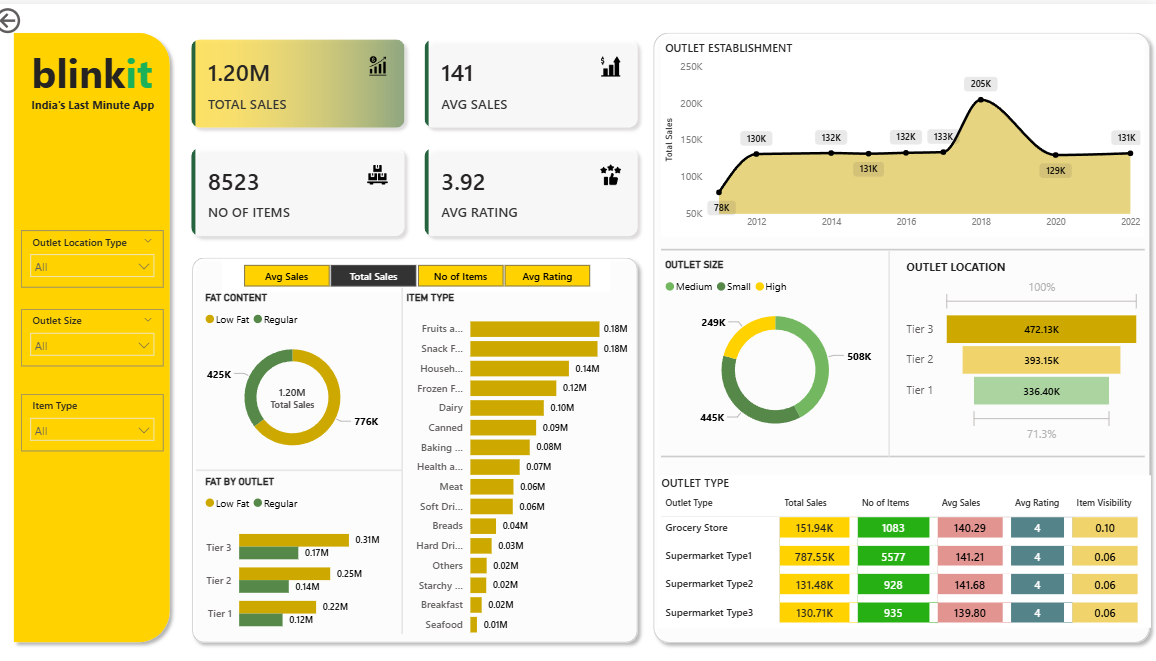

The page's visual inventory and layout, read from the dashboard file:
{"tool":"powerbi","page":{"name":"Page 1","canvas":[1400,800],"ordinal":0},"visuals":[{"type":"shape","box":[18.6,25.7,205.7,750],"z":0},{"type":"textbox","box":[42.9,42.9,164.3,80],"z":1000},{"type":"textbox","box":[42.9,107.1,175.7,30],"z":2000},{"type":"cardVisual","fields":{"Data":["BlinkIT Grocery Data.Total Sales","BlinkIT Grocery Data.Avg Sales","BlinkIT Grocery Data.No of Items","BlinkIT Grocery Data.Avg Rating"]},"box":[224.3,25.7,570,270],"z":3000},{"type":"shape","box":[232.9,295.7,552.9,480],"z":4000},{"type":"donutChart","title":"FAT CONTENT","fields":{"Y":["BlinkIT Grocery Data.Total Sales"],"Category":["BlinkIT Grocery Data.Item Fat Content"]},"box":[252.9,345.7,220,212.9],"z":5000},{"type":"slicer","fields":{"Values":["Metrics.Metrics"]},"box":[277.1,305.7,465.7,40],"z":6000},{"type":"cardVisual","fields":{"Data":["BlinkIT Grocery Data.Total Sales"]},"box":[310.7,441.3,102.1,61.5],"z":7000},{"type":"clusteredBarChart","title":"FAT BY OUTLET","fields":{"Y":["BlinkIT Grocery Data.Total Sales"],"Category":["BlinkIT Grocery Data.Outlet Location Type"],"Series":["BlinkIT Grocery Data.Item Fat Content"]},"box":[252.9,565.7,220,204.3],"z":8000},{"type":"shape","box":[246.1,543.3,247.6,33],"z":9000},{"type":"shape","box":[477.1,341.4,32.9,415.7],"z":10000},{"type":"clusteredBarChart","title":"ITEM TYPE","fields":{"Y":["BlinkIT Grocery Data.Total Sales"],"Category":["BlinkIT Grocery Data.Item Type"]},"box":[494.3,345.7,275.7,424.3],"z":11000},{"type":"shape","box":[786.5,25.5,613.9,750.4],"z":12000},{"type":"lineChart","title":"OUTLET ESTABLISHMENT","fields":{"Category":["BlinkIT Grocery Data.Outlet Establishment Year"],"Y":["BlinkIT Grocery Data.Total Sales"]},"box":[804.5,43.5,580.8,235.6],"z":13000},{"type":"shape","box":[804.5,283.7,580.8,22.5],"z":14000},{"type":"donutChart","title":"OUTLET SIZE","fields":{"Y":["BlinkIT Grocery Data.Total Sales"],"Category":["BlinkIT Grocery Data.Outlet Size"]},"box":[804.5,306.2,274.7,225.1],"z":15000},{"type":"funnel","title":"OUTLET LOCATION","fields":{"Category":["BlinkIT Grocery Data.Outlet Location Type"],"Y":["BlinkIT Grocery Data.Total Sales"]},"box":[1094.1,306.2,291.2,225.1],"z":16000},{"type":"pivotTable","title":"OUTLET TYPE","fields":{"Rows":["BlinkIT Grocery Data.Outlet Type"],"Values":["BlinkIT Grocery Data.Total Sales","BlinkIT Grocery Data.No of Items","BlinkIT Grocery Data.Avg Sales","BlinkIT Grocery Data.Avg Rating","Avg(BlinkIT Grocery Data.Item Visibility)"]},"box":[800,565.8,592.8,183.1],"z":17000},{"type":"actionButton","box":[0,0,100,40],"z":18000},{"type":"slicer","fields":{"Values":["BlinkIT Grocery Data.Outlet Location Type"]},"box":[36,271.7,171.1,69],"z":19000},{"type":"slicer","fields":{"Values":["BlinkIT Grocery Data.Outlet Size"]},"box":[36,366.2,171.1,69],"z":20000},{"type":"slicer","fields":{"Values":["BlinkIT Grocery Data.Item Type"]},"box":[36,468.3,171.1,69],"z":21000},{"type":"shape","box":[804.5,525.3,580.8,36],"z":22000},{"type":"shape","box":[1062.6,295.7,31.5,247.6],"z":23000}]}

Visuals, with their boxes in screenshot pixels (x1, y1, x2, y2), scaled from the page's 1400x800 canvas onto the 1156x661 screenshot:
shape: BBox(15, 21, 185, 641)
textbox: BBox(35, 35, 171, 102)
textbox: BBox(35, 88, 181, 113)
cardVisual - BlinkIT Grocery Data.Total Sales x BlinkIT Grocery Data.Avg Sales: BBox(185, 21, 656, 244)
shape: BBox(192, 244, 649, 641)
"FAT CONTENT" donutChart: BBox(209, 286, 390, 462)
slicer - Metrics.Metrics: BBox(229, 253, 613, 286)
cardVisual - BlinkIT Grocery Data.Total Sales: BBox(257, 365, 341, 415)
"FAT BY OUTLET" clusteredBarChart: BBox(209, 467, 390, 636)
shape: BBox(203, 449, 408, 476)
shape: BBox(394, 282, 421, 626)
"ITEM TYPE" clusteredBarChart: BBox(408, 286, 636, 636)
shape: BBox(649, 21, 1155, 641)
"OUTLET ESTABLISHMENT" lineChart: BBox(664, 36, 1144, 231)
shape: BBox(664, 234, 1144, 253)
"OUTLET SIZE" donutChart: BBox(664, 253, 891, 439)
"OUTLET LOCATION" funnel: BBox(903, 253, 1144, 439)
"OUTLET TYPE" pivotTable: BBox(661, 467, 1150, 619)
actionButton: BBox(0, 0, 83, 33)
slicer - BlinkIT Grocery Data.Outlet Location Type: BBox(30, 224, 171, 282)
slicer - BlinkIT Grocery Data.Outlet Size: BBox(30, 303, 171, 360)
slicer - BlinkIT Grocery Data.Item Type: BBox(30, 387, 171, 444)
shape: BBox(664, 434, 1144, 464)
shape: BBox(877, 244, 903, 449)
